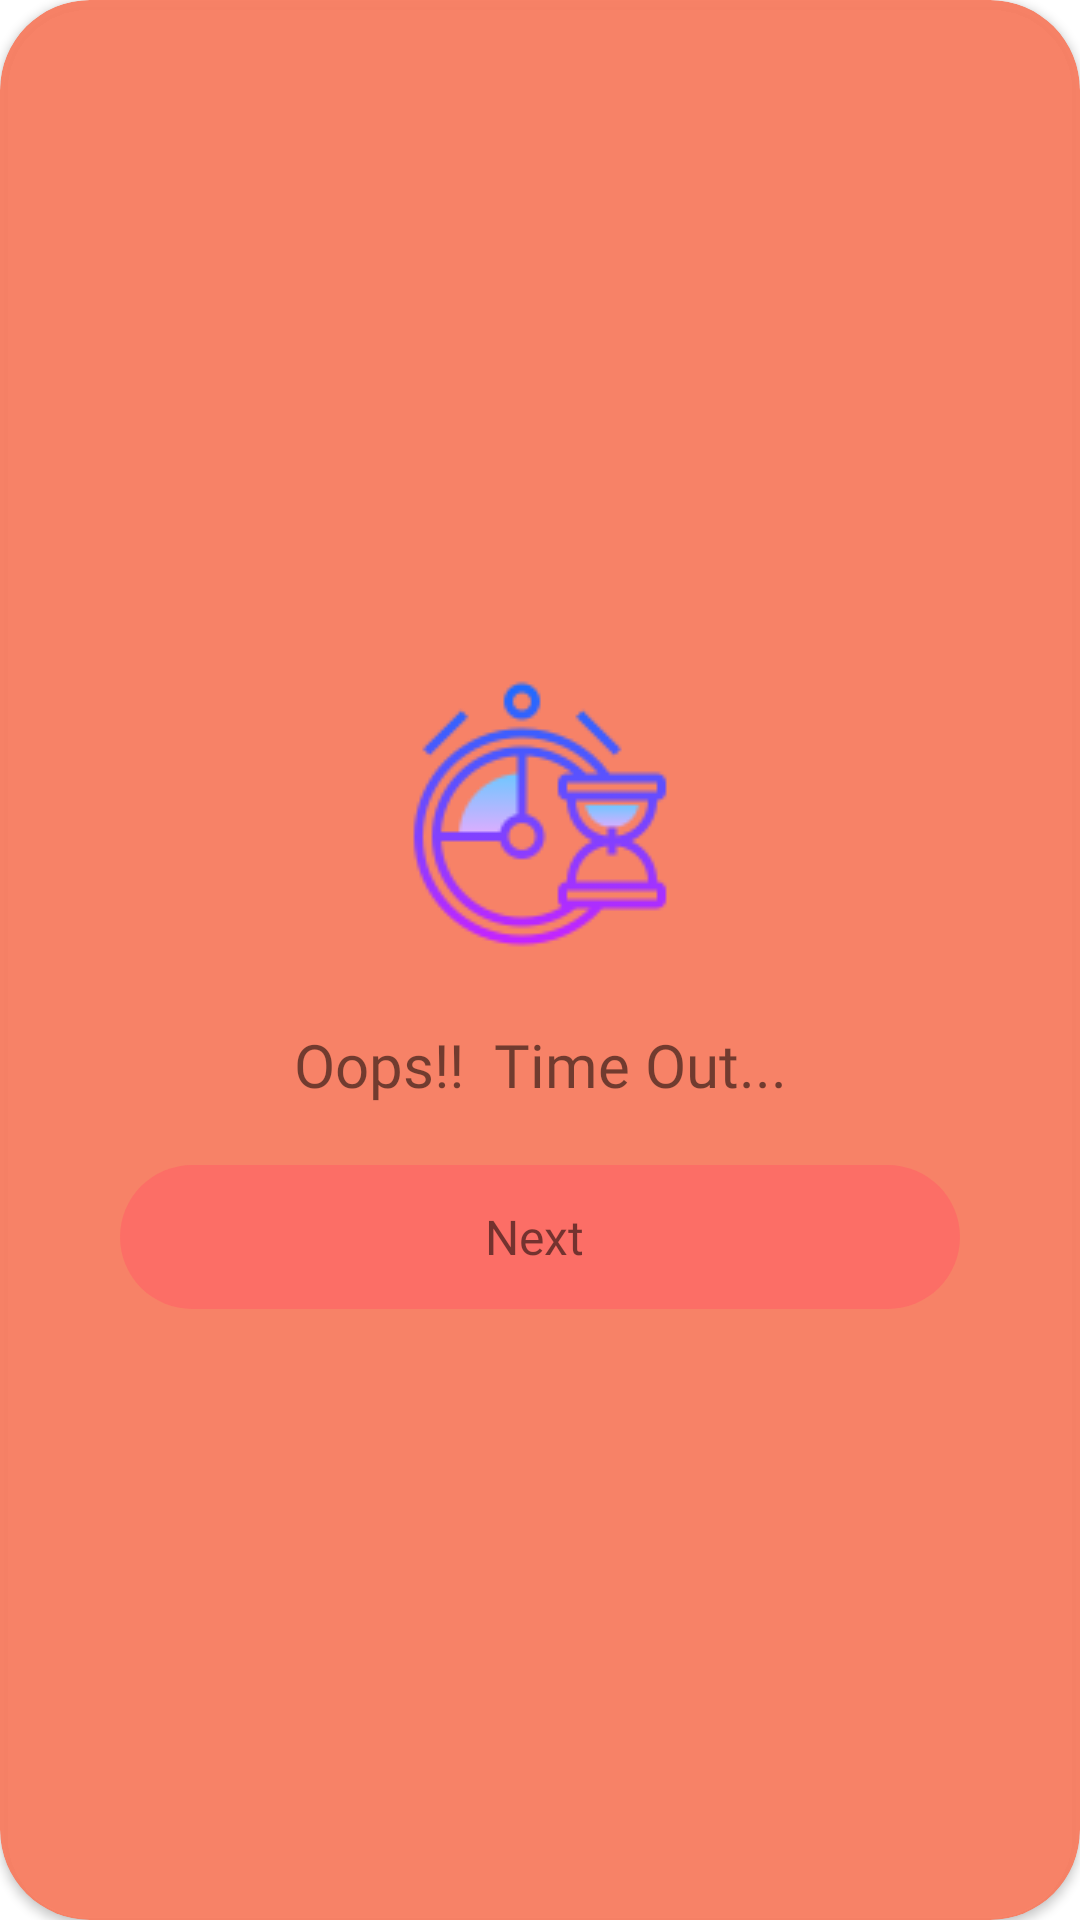

Icons on this 1080×1920 Android screen, each with its box as Rect(x1, y1, x2, y2):
clock: Rect(413, 681, 667, 946)
